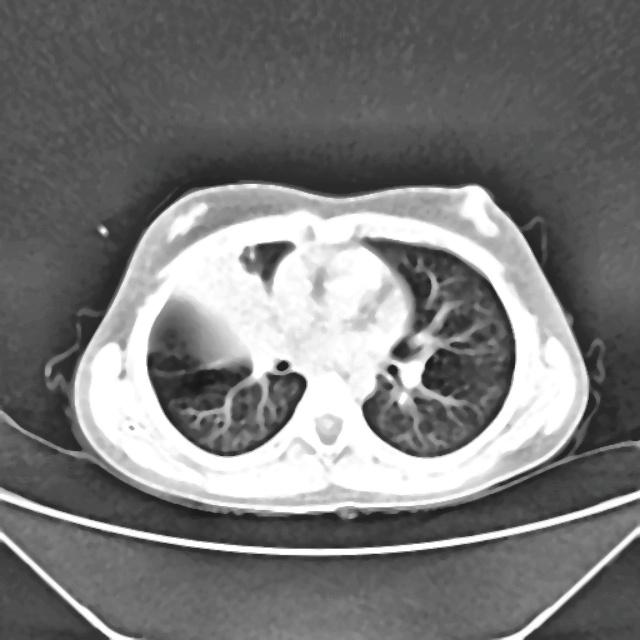covid: (63, 179, 590, 518)
